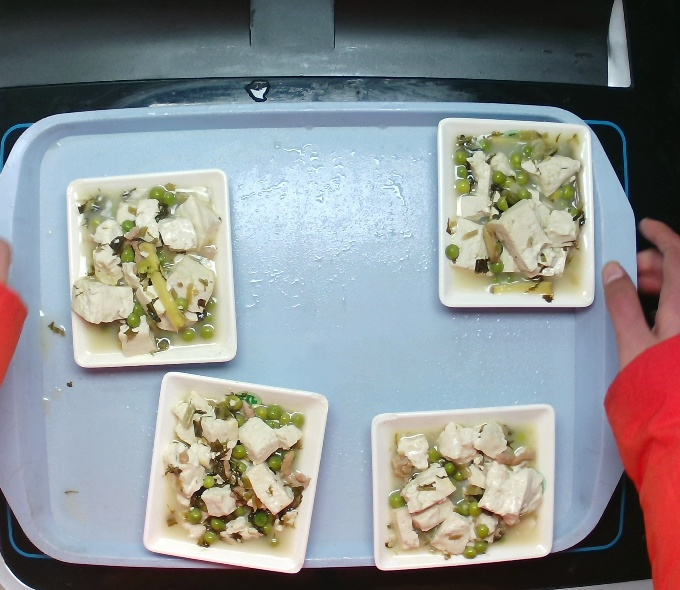wcq-CanDouDouFu: (433, 109, 599, 310), (67, 171, 226, 358), (150, 383, 316, 554), (386, 410, 539, 567)
